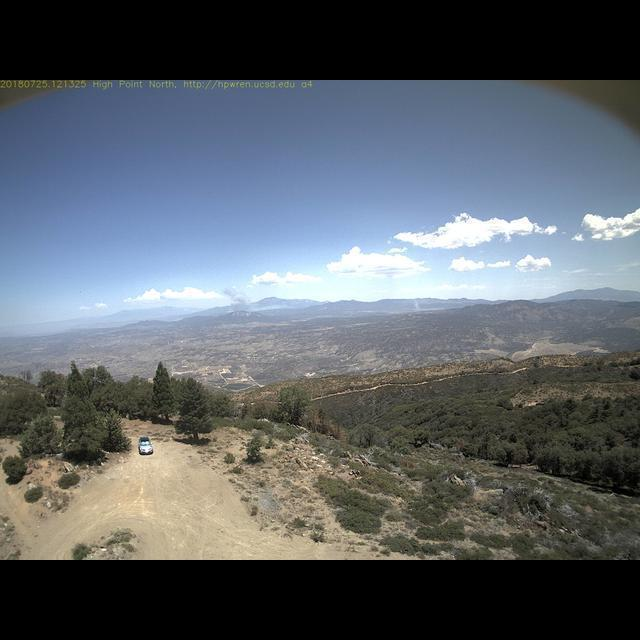Smoke: (216, 283, 253, 319)
